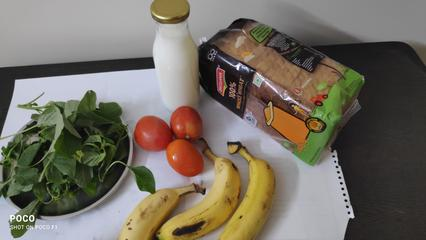banana: (167, 153, 274, 240), (131, 183, 168, 240)
bread: (202, 14, 373, 154)
milk: (144, 5, 210, 107)
spinach: (12, 106, 112, 195)
tomato: (137, 111, 211, 177)
